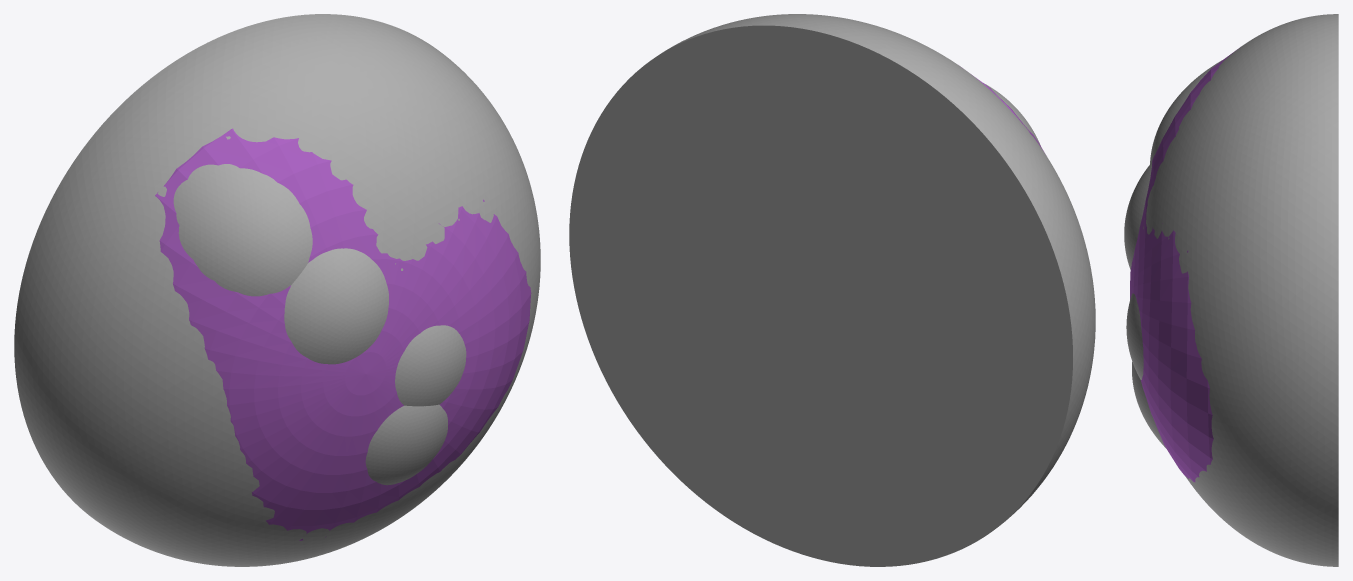
File: G05_A2D_ALIGNED_GT.glb
3 renders of one model, left to right at view 1: azimuth 30°, elevation 25°; view 2: azimuth 150°, elevation 25°; view 3: azimuth 270°, elevation 25°, orthographic. The views are drawn at different scales.
Visible parts, largest first — view 1: Independent_GT, A2D; view 2: Independent_GT; view 3: Independent_GT, A2D.
Part boxes in pixels (x1,y1,x2,y2): Independent_GT: (14,14,540,566); A2D: (155,128,531,540); Independent_GT: (569,14,1095,566); Independent_GT: (1124,14,1338,566); A2D: (1130,47,1240,482).
Size of the model in its own units: 0.018 by 0.018 by 0.00699.
